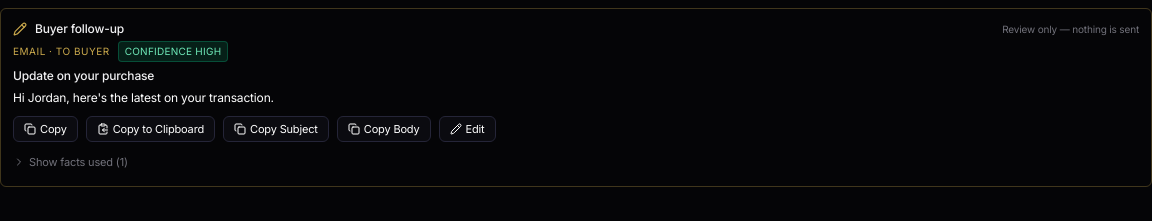
AssistantDraftCard — copy controls › Edit toggles a textarea
Click the button with test id "assistant-draft-edit" at x=467, y=129, box [438,116,496,142]
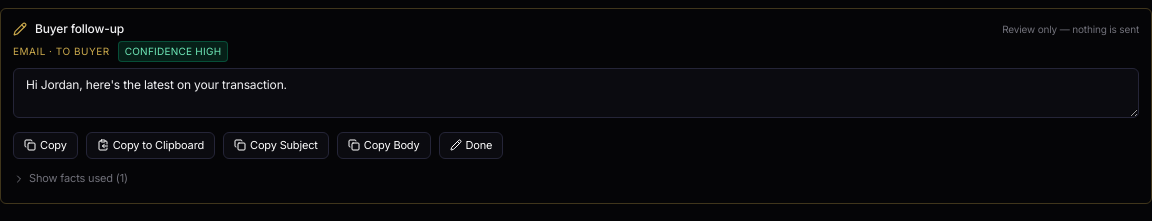
Now the text box with test id "assistant-draft-textarea" is shown, box [13,68,1139,118]
